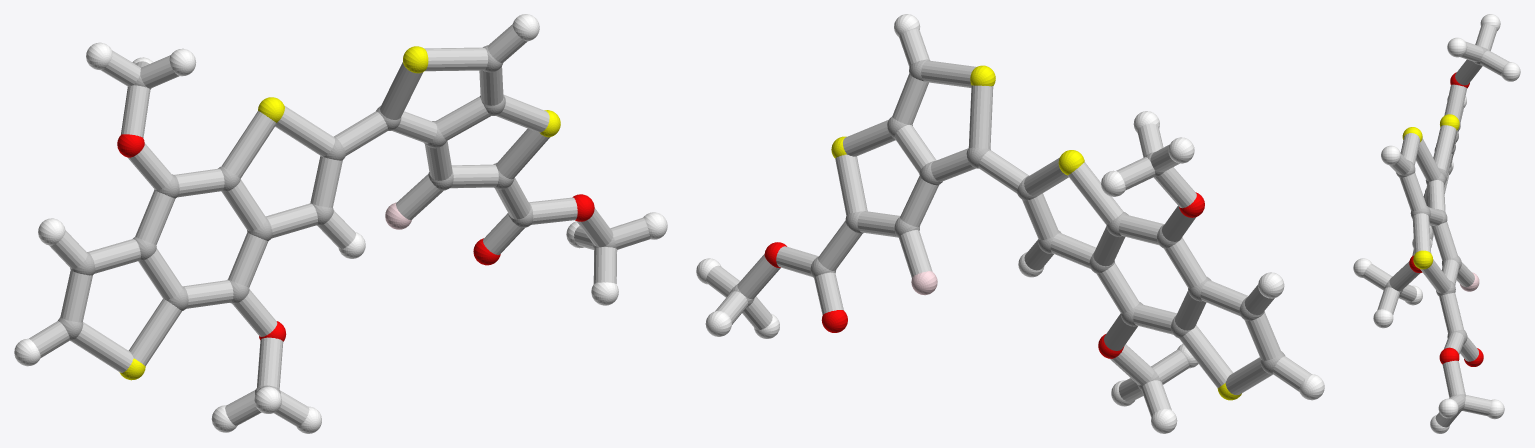
Rendered from color.glb.
3 renders of one model, left to right at view 1: azimuth 30°, elevation 25°; view 2: azimuth 150°, elevation 25°; view 3: azimuth 270°, elevation 25°, orthographic. The views are drawn at different scales.
Visible parts, largest first — view 1: grp15205, grp8689, grp1, grp7241, grp13395; view 2: grp15205, grp8689, grp1, grp13395, grp7241; view 3: grp15205, grp8689, grp1, grp7241, grp13395.
Part boxes in pixels (<box>): grp15205: <box>29,24,650,426</box>; grp8689: <box>14,14,667,433</box>; grp1: <box>58,45,616,394</box>; grp7241: <box>119,46,560,380</box>; grp13395: <box>117,134,594,341</box>; grp15205: <box>706,29,1310,416</box>; grp8689: <box>696,14,1324,433</box>; grp1: <box>730,59,1285,390</box>; grp13395: <box>764,192,1204,358</box>; grp7241: <box>831,65,1241,400</box>; grp15205: <box>1363,24,1509,427</box>; grp8689: <box>1353,14,1520,433</box>; grp1: <box>1385,46,1488,411</box>; grp7241: <box>1402,114,1459,269</box>; grp13395: <box>1409,72,1483,366</box>.
Size of the model in its own units: 16.38 by 8.8 by 5.03.
